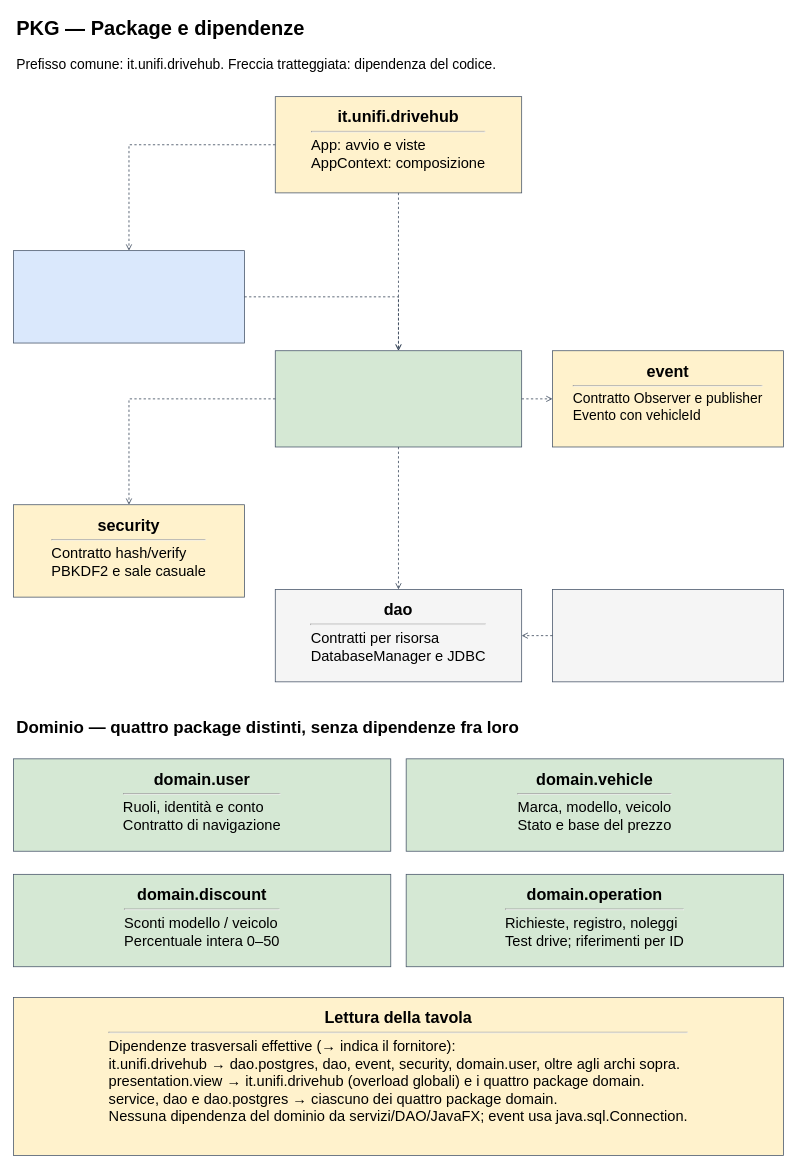
Some shapes in this 797 by 1169 pixel diagram are drawn without their labels. Here are the shapes that lost their labels. From the top down, the box of each, then its label:
(13, 250, 244, 343): presentation.view Viste JavaFX e dialoghi Input, tabelle e caricamenti
(275, 350, 522, 447): service Casi d'uso, prezzi, transazioni Letture e politica di cancellazione
(552, 589, 783, 682): dao.postgres Mapping, SQL e lock Dieci realizzazioni dei DAO
